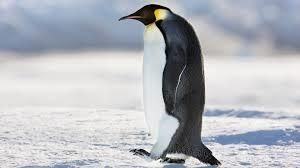emporer: (114, 0, 220, 168)
